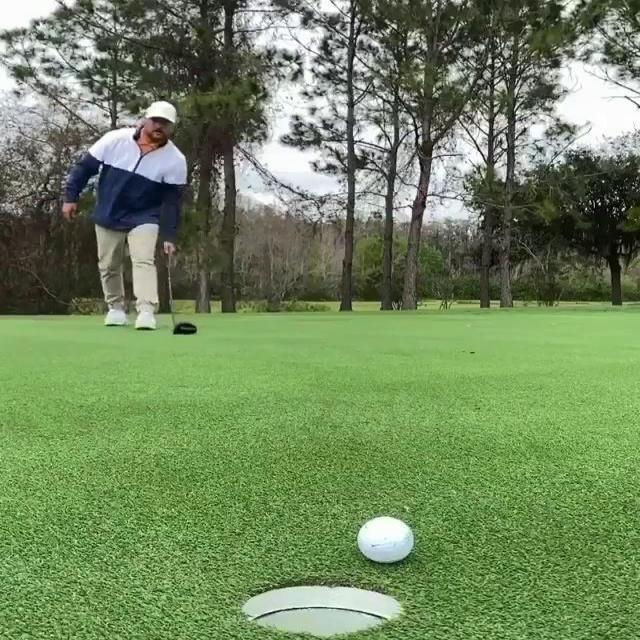ClubHead: (173, 322, 197, 335)
GolfBall: (357, 516, 414, 561)
